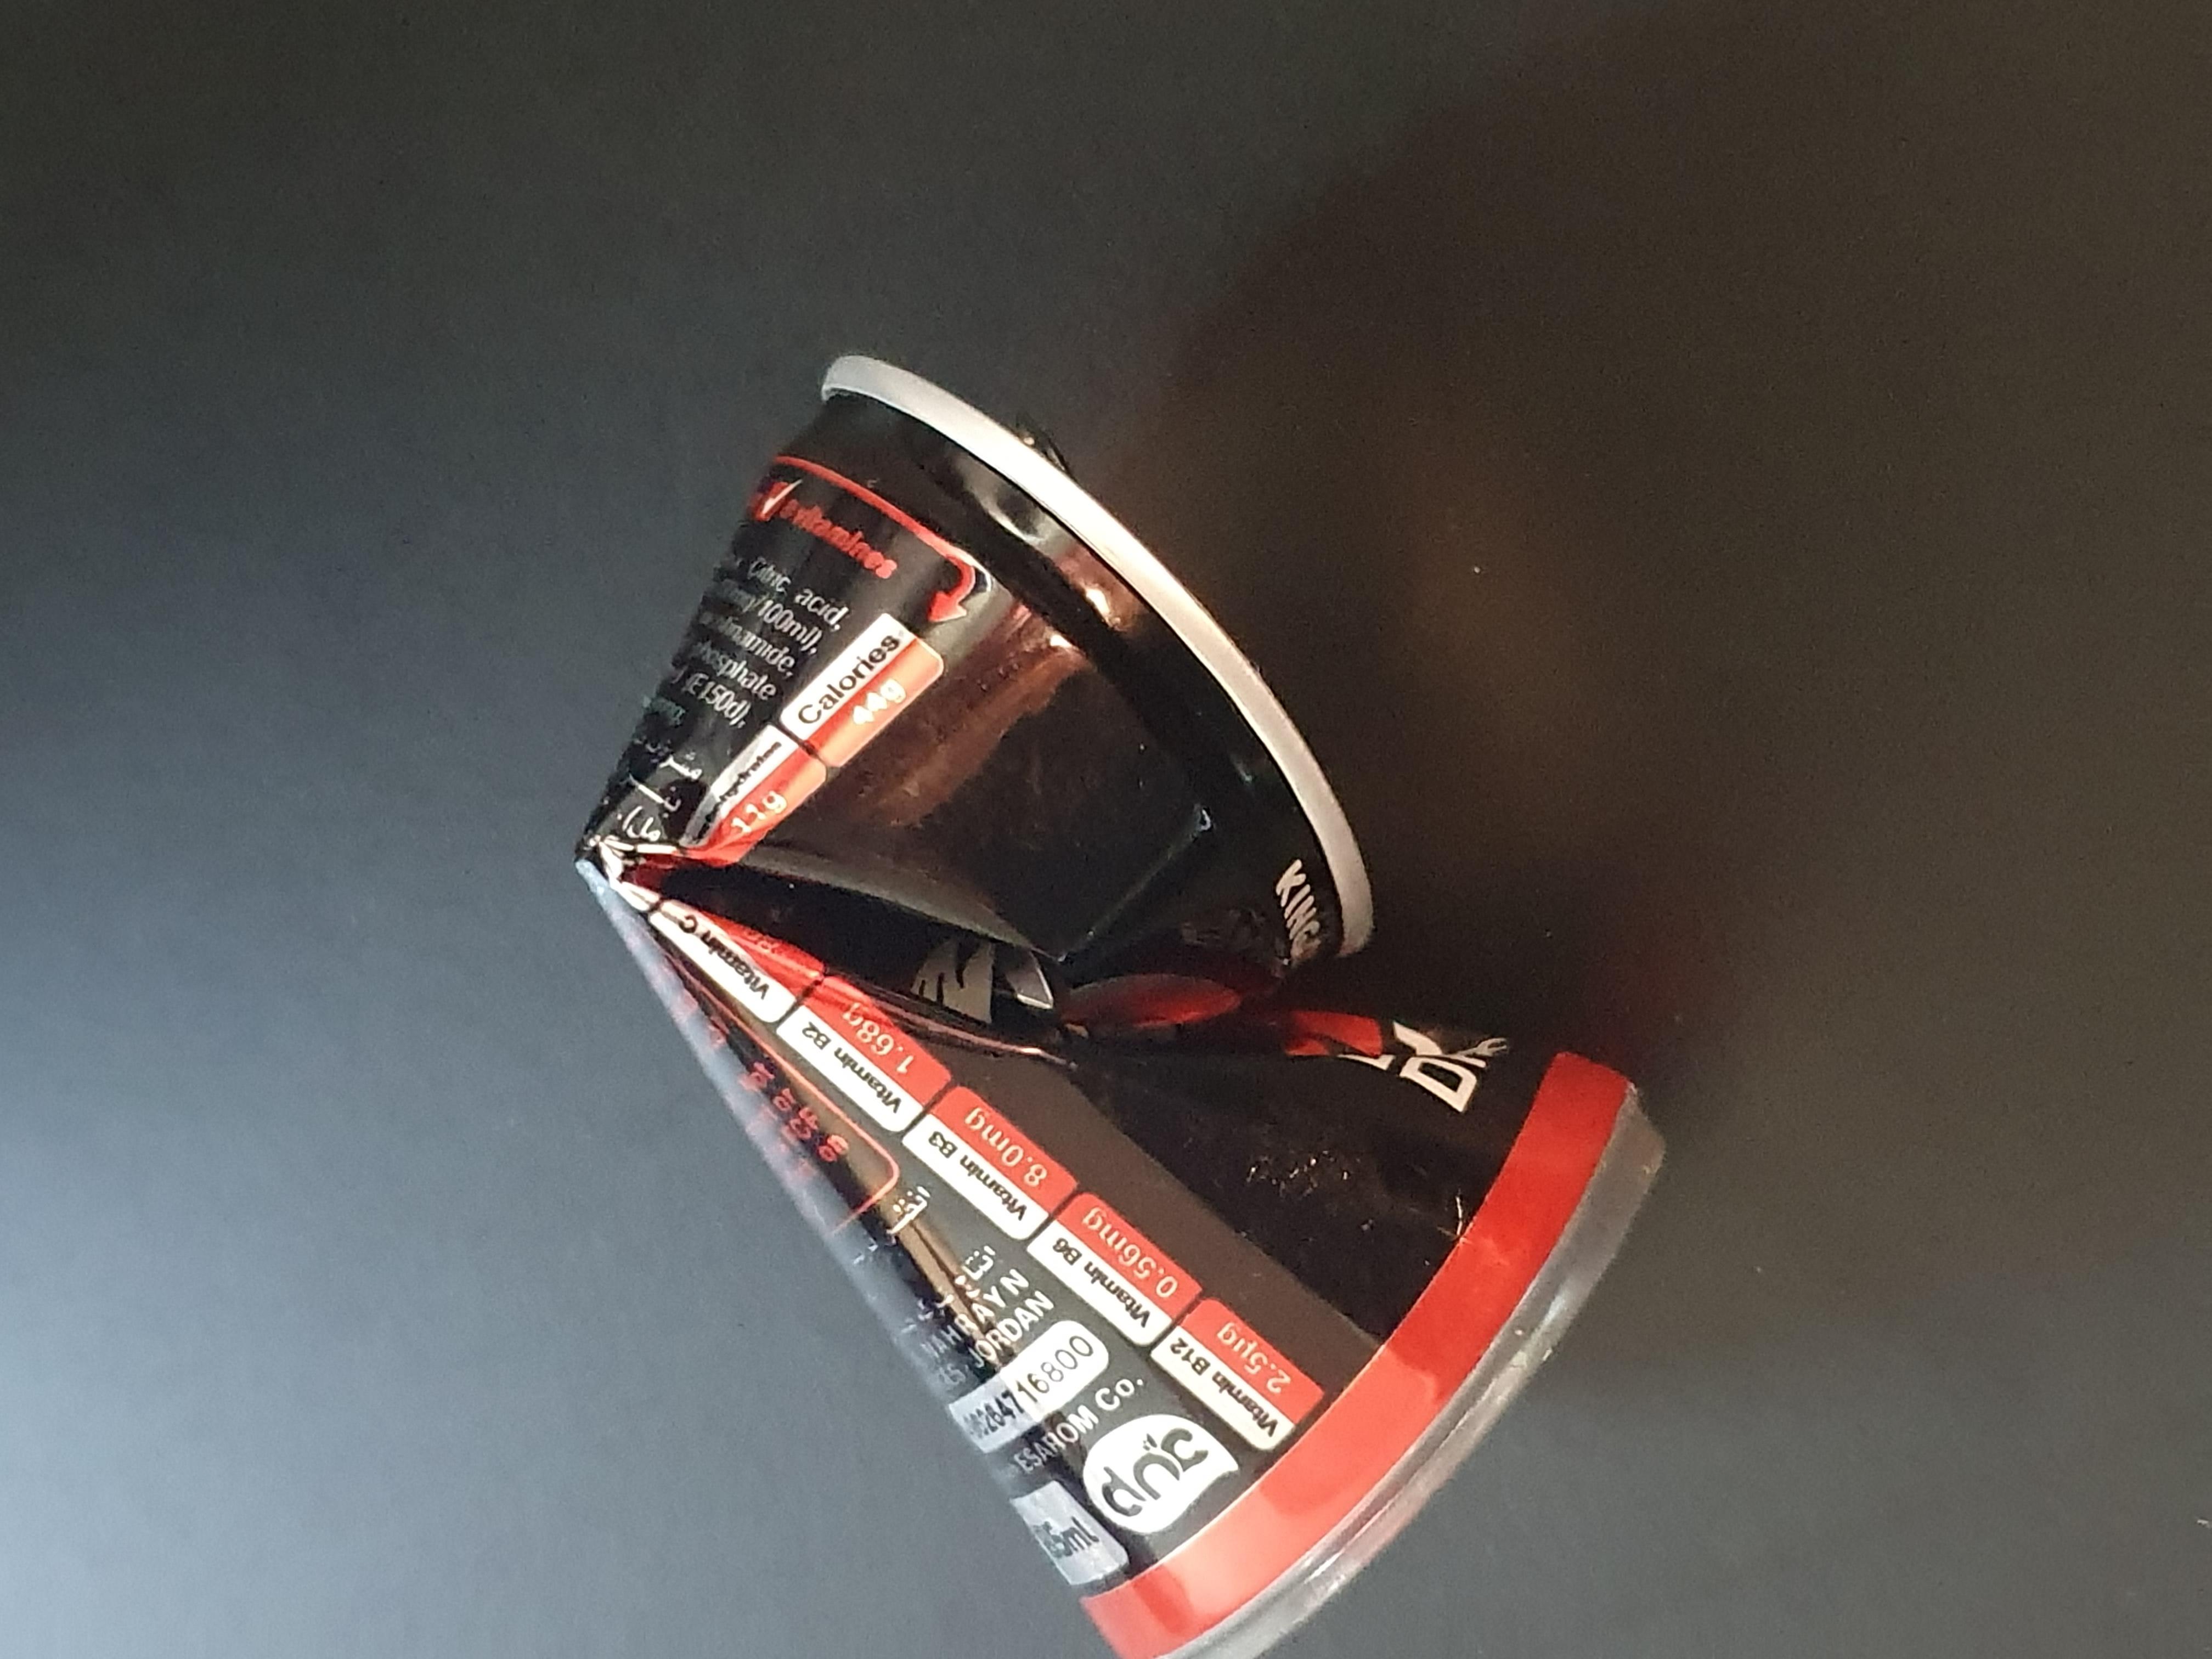metal: (523, 305, 1707, 1659)
